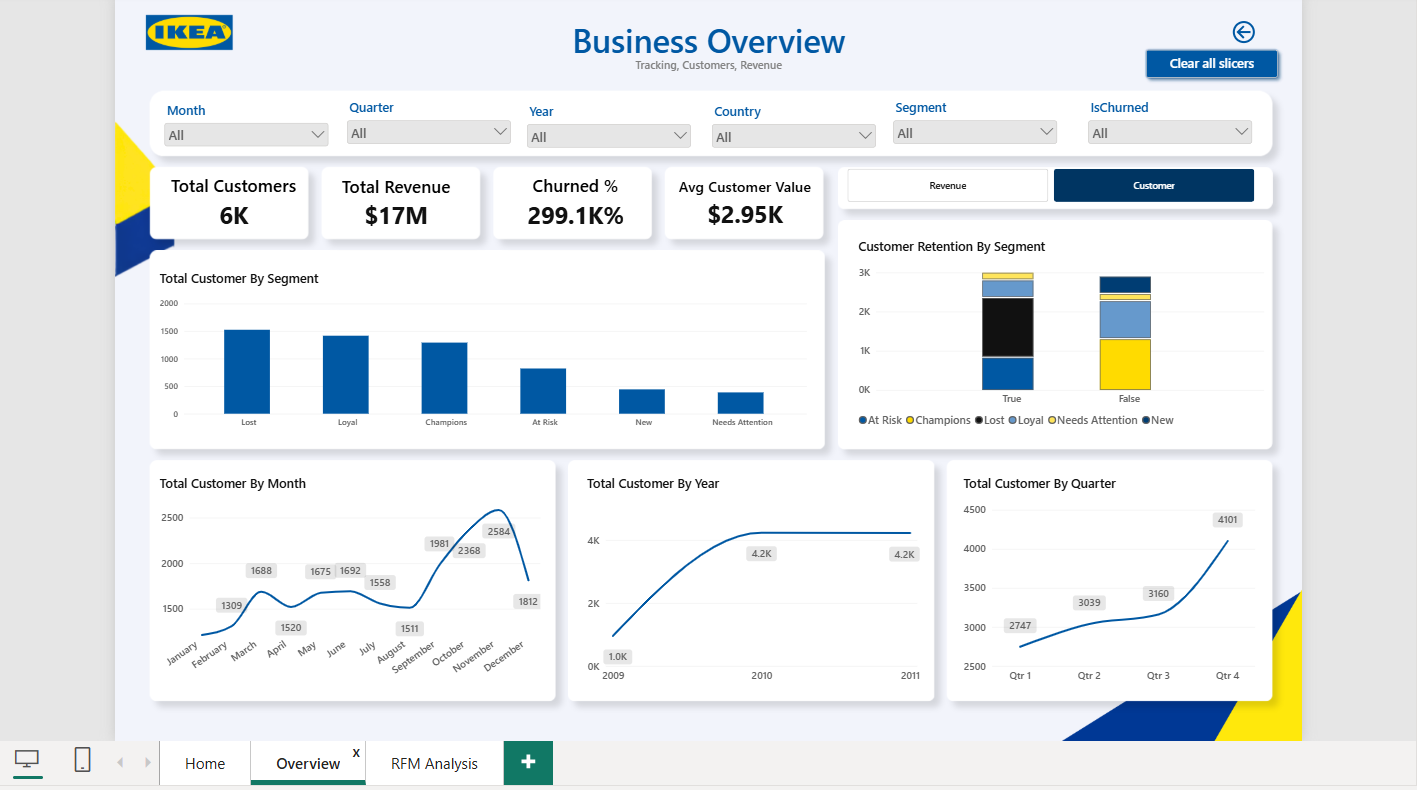

Layout of this report page (visuals, bound fields, positions):
{"tool":"powerbi","page":{"name":"Overview","canvas":[1750,1100],"ordinal":0},"visuals":[{"type":"cardVisual","fields":{"Data":["Sheet1.Total Customers"]},"box":[49.8,245.1,250.7,121.6],"z":0},{"type":"columnChart","title":"Total Customer By Segment","fields":{"Category":["Sheet1.Segment"],"Y":["Sheet1.Total Customers"]},"box":[49.8,390.7,986.1,267.3],"z":0,"group":"g1"},{"type":"cardVisual","fields":{"Data":["Sheet1.Total Revenue"]},"box":[300.4,239.6,228.6,134.6],"z":1000},{"type":"columnChart","title":"Customer Retention By Segment","fields":{"Category":["Sheet1.IsChurned"],"Series":["Sheet1.Segment"],"Y":["Sheet1.Total Customers"]},"box":[1080.6,342.2,630.5,315.2],"z":1000,"group":"g1"},{"type":"cardVisual","fields":{"Data":["Sheet1.Churned %"]},"box":[558.5,245.1,241.5,121.6],"z":2000},{"type":"lineChart","title":"Total Customer By Month","fields":{"Category":["Sheet1.invoice_date.Variation.Date Hierarchy.Month"],"Y":["Sheet1.Total Customers"]},"box":[49.8,692.7,593.5,341],"z":2000,"group":"g1"},{"type":"cardVisual","fields":{"Data":["Sheet1.Avg Customer Value"]},"box":[799.9,247,258,121.6],"z":3000},{"type":"lineChart","title":"Total Customer By Year","fields":{"Category":["Sheet1.invoice_date.Variation.Date Hierarchy.Year"],"Y":["Sheet1.Total Customers"]},"box":[680.3,692.7,523.5,341],"z":3000,"group":"g1"},{"type":"slicer","fields":{"Values":["Sheet1.invoice_date.Variation.Date Hierarchy.Month"]},"box":[68.2,156.7,251,150],"z":4000},{"type":"lineChart","title":"Total Customer By Quarter","fields":{"Category":["Sheet1.invoice_date.Variation.Date Hierarchy.Quarter"],"Y":["Sheet1.Total Customers"]},"box":[1234,692.7,462.6,341],"z":4000,"group":"g1"},{"type":"slicer","fields":{"Values":["Sheet1.invoice_date.Variation.Date Hierarchy.Quarter"]},"box":[337.3,153,251,150],"z":5000},{"type":"slicer","fields":{"Values":["Sheet1.invoice_date.Variation.Date Hierarchy.Year"]},"box":[602.7,158.5,251,150],"z":6000},{"type":"slicer","fields":{"Values":["Sheet1.country"]},"box":[875.5,158.5,251,150],"z":7000},{"type":"slicer","fields":{"Values":["Sheet1.Segment"]},"box":[1142.8,153,251,150],"z":8000},{"type":"slicer","fields":{"Values":["Sheet1.IsChurned"]},"box":[1430.3,153,251,150],"z":9000},{"type":"group","id":"g1","title":"Customer","box":[49.8,342.2,1661.3,691.5],"z":11000},{"type":"bookmarkNavigator","box":[1080.1,256.2,600.9,49.8],"z":12000},{"type":"image","box":[0,0,219.3,110.6],"z":13000},{"type":"textbox","box":[578.8,33.2,593.5,77.4],"z":14000},{"type":"actionButton","box":[1605.4,14.7,118,79.3],"z":15000},{"type":"actionButton","box":[1511.4,71.9,212,59],"z":16000},{"type":"textbox","box":[578.2,92.2,593.5,36.9],"z":17000}]}

Visuals, with their boxes on the page's 1750x1100 design canvas (x1, y1, x2, y2). These are canvas units, not pixel positions in the 1417x790 screenshot, which may show the page scaled, cropped or inside an application window:
cardVisual - Sheet1.Total Customers: box(50, 245, 300, 367)
"Total Customer By Segment" columnChart: box(50, 391, 1036, 658)
cardVisual - Sheet1.Total Revenue: box(300, 240, 529, 374)
"Customer Retention By Segment" columnChart: box(1081, 342, 1711, 657)
cardVisual - Sheet1.Churned %: box(558, 245, 800, 367)
"Total Customer By Month" lineChart: box(50, 693, 643, 1034)
cardVisual - Sheet1.Avg Customer Value: box(800, 247, 1058, 369)
"Total Customer By Year" lineChart: box(680, 693, 1204, 1034)
slicer - Sheet1.invoice_date.Variation.Date Hierarchy.Month: box(68, 157, 319, 307)
"Total Customer By Quarter" lineChart: box(1234, 693, 1697, 1034)
slicer - Sheet1.invoice_date.Variation.Date Hierarchy.Quarter: box(337, 153, 588, 303)
slicer - Sheet1.invoice_date.Variation.Date Hierarchy.Year: box(603, 158, 854, 308)
slicer - Sheet1.country: box(876, 158, 1126, 308)
slicer - Sheet1.Segment: box(1143, 153, 1394, 303)
slicer - Sheet1.IsChurned: box(1430, 153, 1681, 303)
"Customer" group: box(50, 342, 1711, 1034)
bookmarkNavigator: box(1080, 256, 1681, 306)
image: box(0, 0, 219, 111)
textbox: box(579, 33, 1172, 111)
actionButton: box(1605, 15, 1723, 94)
actionButton: box(1511, 72, 1723, 131)
textbox: box(578, 92, 1172, 129)
